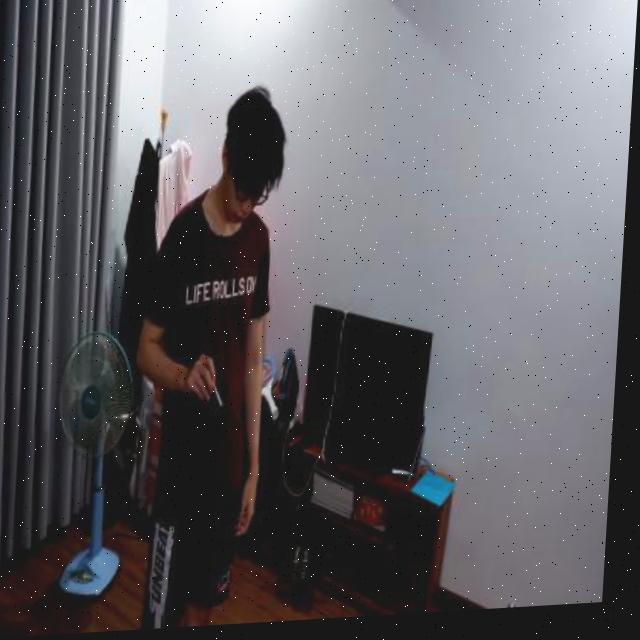cigarette: (215, 381, 231, 410)
